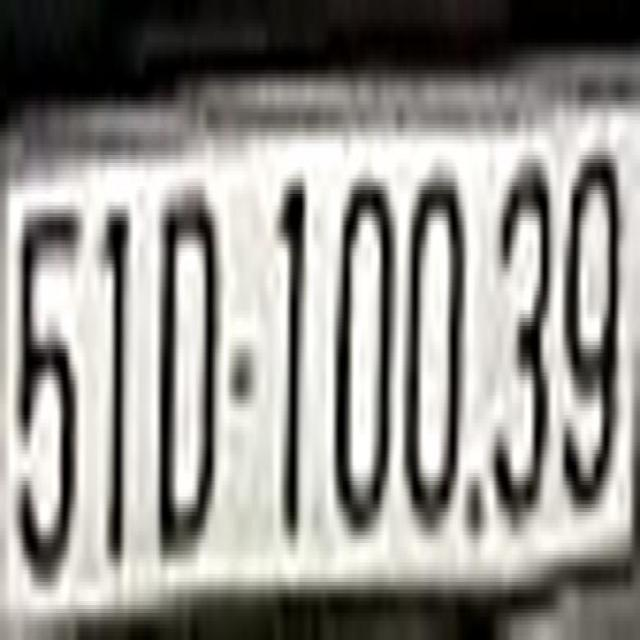0: (336, 171, 392, 543), (408, 167, 461, 531)
1: (272, 163, 304, 524), (100, 194, 129, 558)
3: (496, 163, 547, 512)
5: (19, 202, 79, 574)
9: (567, 163, 615, 512)
D: (158, 182, 218, 555)
